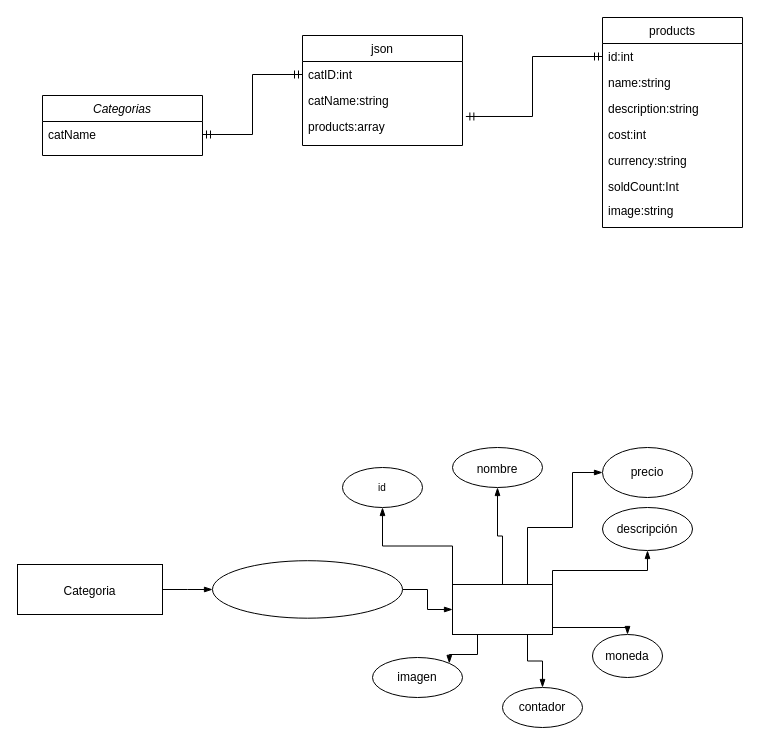
Image size: 760x745. Some labels were removed from this diagram. The centre of each missing label's shape, as x and y in pixels:
Autos: pixel 502 609
NombreDeLaCategoría: pixel 307 589
